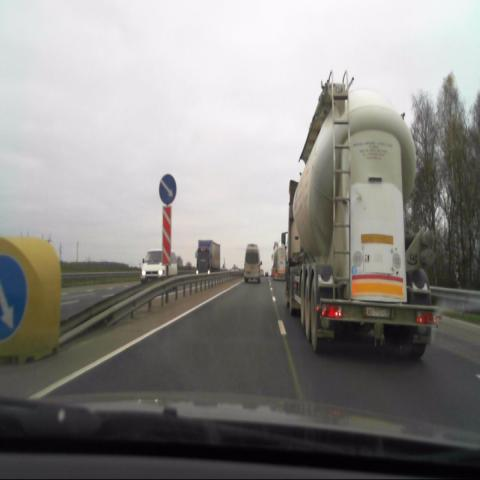4_2_1: (158, 170, 177, 205)
